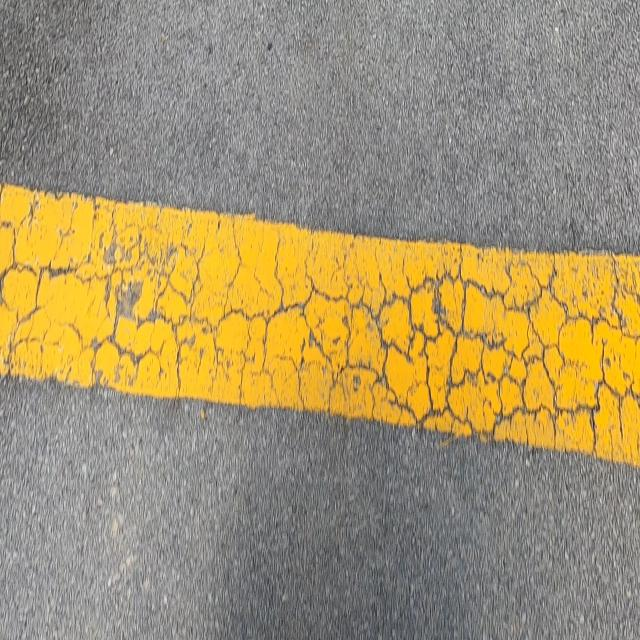Retak-Buaya: (0, 184, 640, 464)
